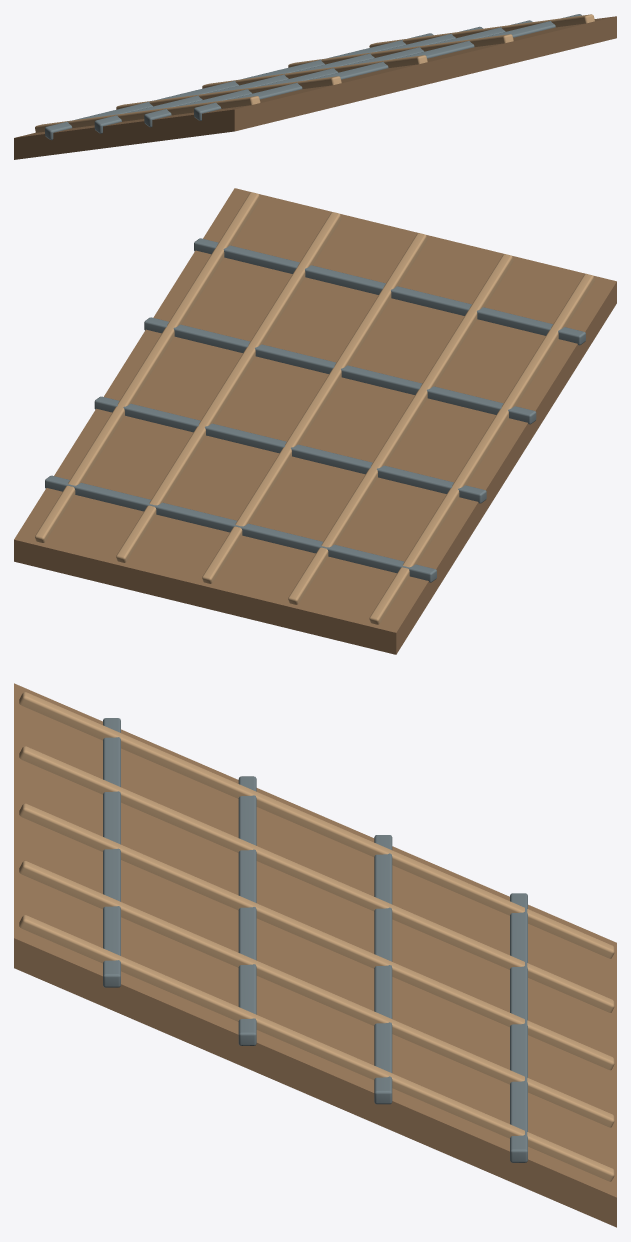
Rendered from SM_Roof_GableHalf_4m.fbx.
The picture shows the model from 3 angles, top to bottom: view 1: azimuth 30°, elevation 25°; view 2: azimuth 150°, elevation 25°; view 3: azimuth 270°, elevation 25°; orthographic projection. The views are drawn at different scales.
Parts seen in each view (by area): view 1: SM_Roof_GableHalf_4m; view 2: SM_Roof_GableHalf_4m; view 3: SM_Roof_GableHalf_4m.
Part boxes in pixels (x1=…): SM_Roof_GableHalf_4m: x1=14, y1=14, x2=616, y2=159; SM_Roof_GableHalf_4m: x1=14, y1=188, x2=616, y2=654; SM_Roof_GableHalf_4m: x1=14, y1=683, x2=616, y2=1227.
Bounding box in the file's own units: 4.05 × 2.16 × 4.
